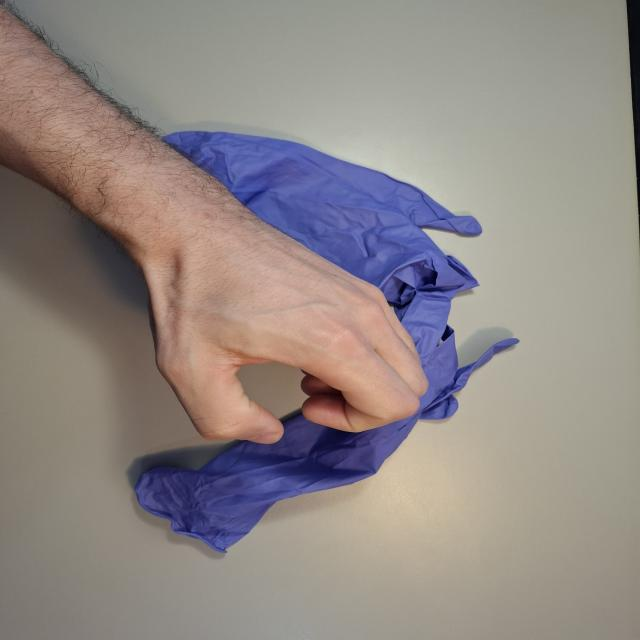glove_off: (138, 229, 434, 446)
